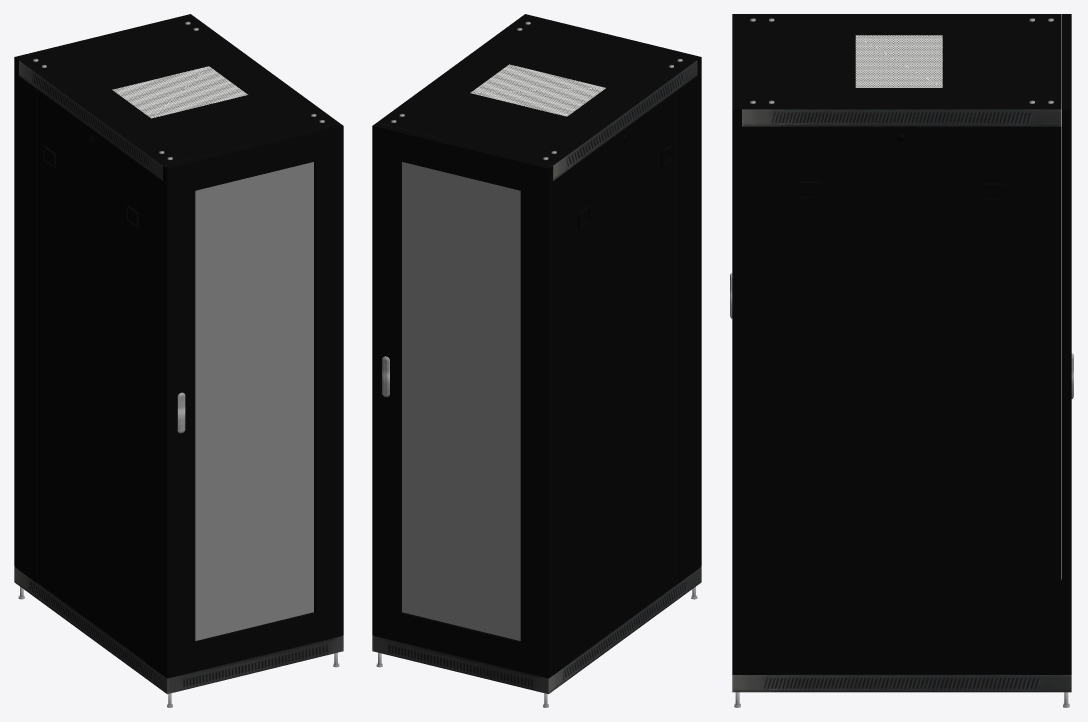
File: RKAB35.fbx
3 renders of one model, left to right at view 1: azimuth 30°, elevation 25°; view 2: azimuth 150°, elevation 25°; view 3: azimuth 270°, elevation 25°, orthographic. The views are drawn at different scales.
Visible parts, largest first — view 1: frontdoor, RKAB35, Box140, backdoor; view 2: backdoor, RKAB35, Box140, frontdoor; view 3: RKAB35, Box140, frontdoor, backdoor.
Part boxes in pixels (<box>): frontdoor: <box>163,123,343,678</box>; RKAB35: <box>37,89,145,661</box>; Box140: <box>14,17,343,707</box>; backdoor: <box>14,14,194,569</box>; backdoor: <box>372,123,552,678</box>; RKAB35: <box>571,89,679,660</box>; Box140: <box>372,17,701,707</box>; frontdoor: <box>521,14,701,568</box>; RKAB35: <box>779,126,1022,673</box>; Box140: <box>732,14,1071,707</box>; frontdoor: <box>730,14,741,674</box>; backdoor: <box>1062,14,1073,674</box>.
Size of the model in its own units: 610 by 1761 by 913.
6 materials, 4 textured.
